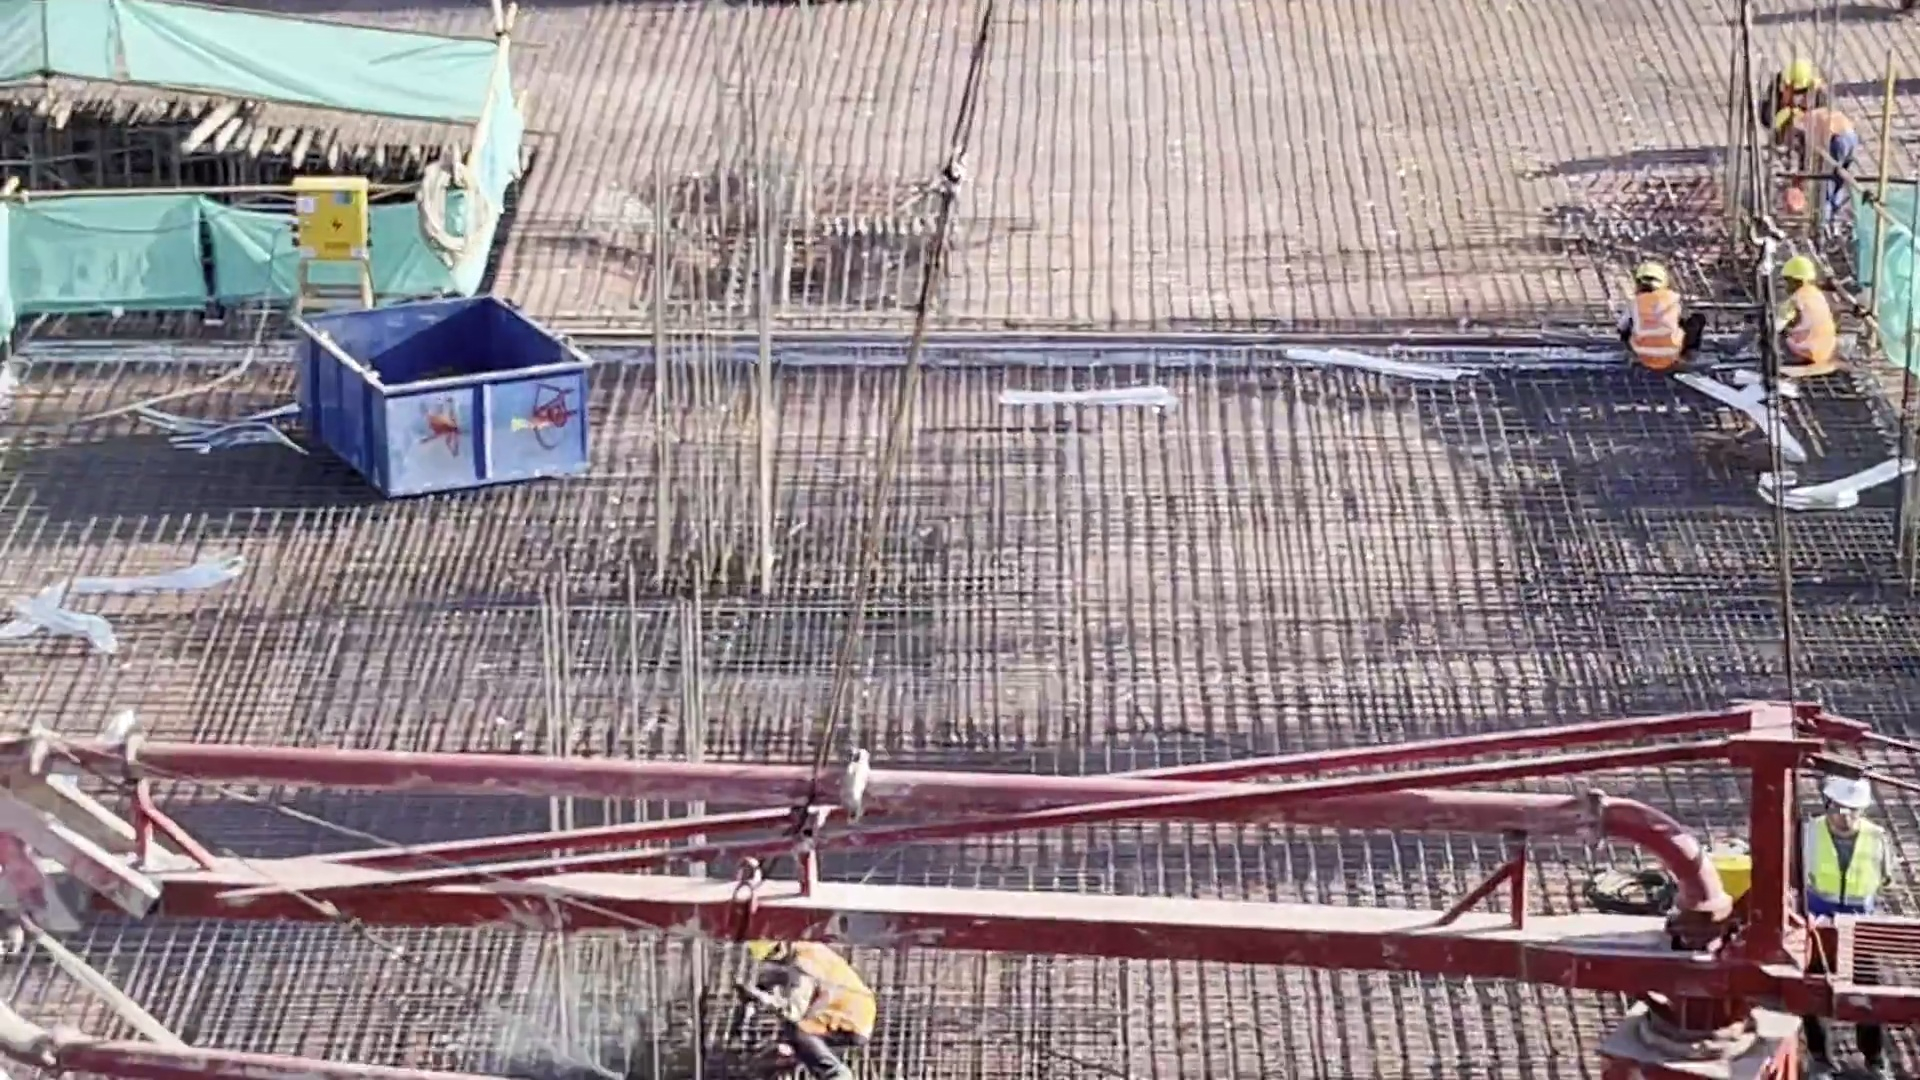ebox: (295, 192, 383, 294)
helmet: (1816, 780, 1869, 816), (1784, 62, 1825, 90), (1782, 259, 1817, 287), (744, 938, 789, 960), (1636, 258, 1666, 284), (1769, 103, 1789, 131)
hopper: (302, 286, 581, 486)
person: (728, 915, 905, 1080), (1788, 765, 1891, 930), (1758, 250, 1863, 393), (1617, 245, 1711, 383), (1764, 100, 1864, 219), (1748, 60, 1834, 134)
vest: (771, 946, 869, 1035), (1816, 831, 1881, 919), (1639, 298, 1696, 373), (1782, 298, 1834, 373), (1807, 110, 1846, 171)
